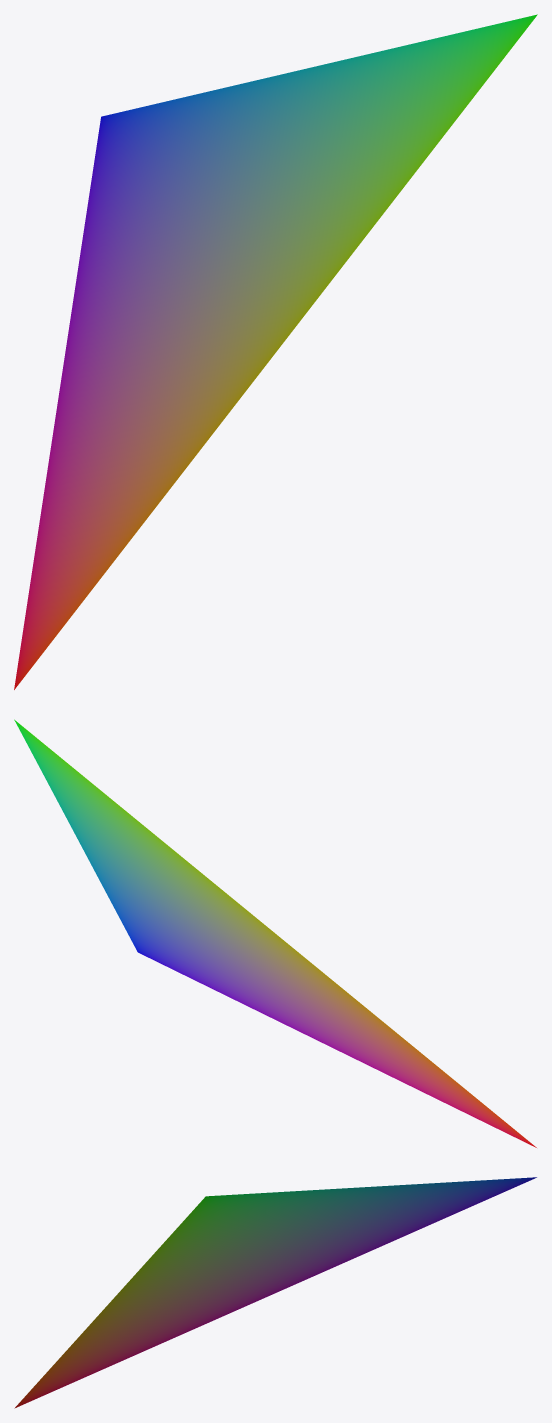
File: face_cleaning_conquest_44.obj
3 renders of one model, top to bottom at view 1: azimuth 30°, elevation 25°; view 2: azimuth 150°, elevation 25°; view 3: azimuth 270°, elevation 25°, orthographic. The views are drawn at different scales.
Size of the model in its own units: 0.9272 by 0.691 by 0.5781.
